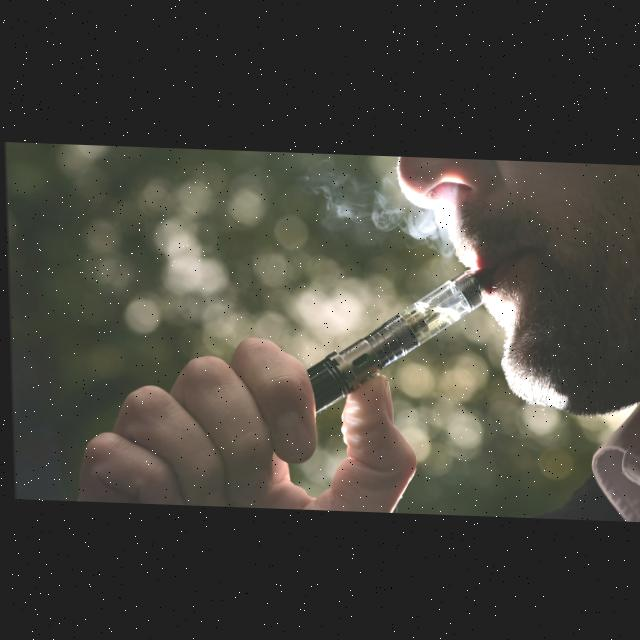vape: (303, 256, 506, 419)
